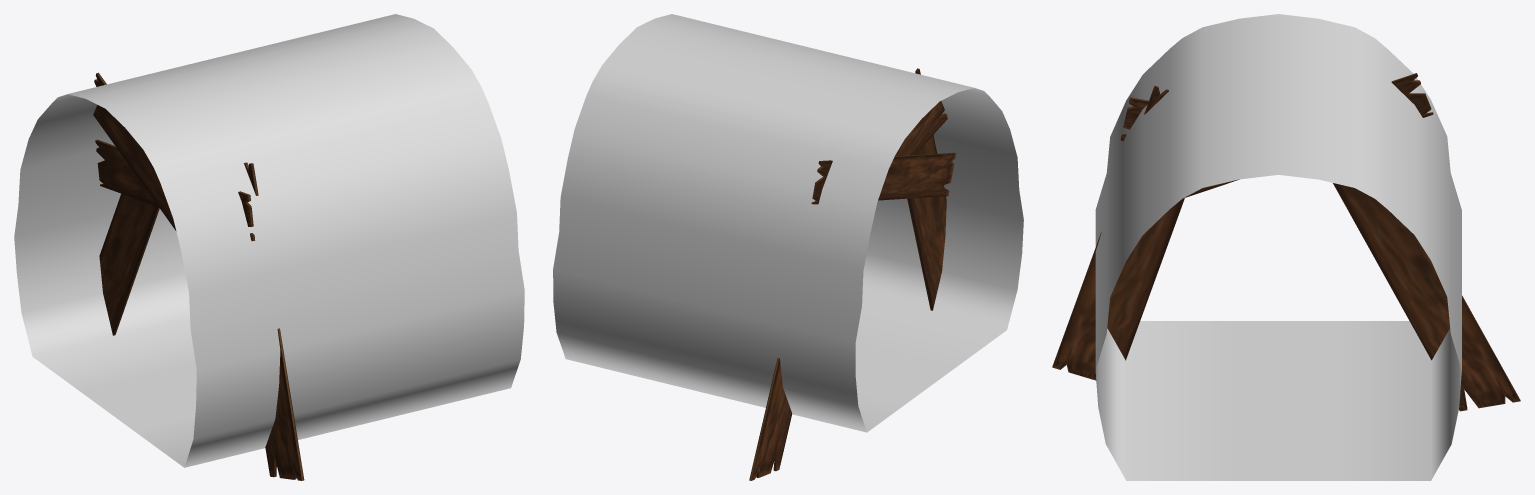
Rendered from Quinta parte.fbx.
3 views of the same model, side by side, from view 1: azimuth 30°, elevation 25°; view 2: azimuth 150°, elevation 25°; view 3: azimuth 270°, elevation 25° (orthographic). The views are drawn at different scales.
Parts seen in each view (by area): view 1: Plane, Plane.010, Plane.009, Plane.008; view 2: Plane, Plane.010, Plane.009, Plane.008; view 3: Plane, Plane.010, Plane.009.
Boxes of the visible parts, box(x1,y1,x2,y2) form: Plane: box(14, 14, 524, 467); Plane.010: box(99, 162, 304, 480); Plane.009: box(93, 72, 176, 230); Plane.008: box(95, 139, 255, 241); Plane: box(553, 14, 1023, 432); Plane.010: box(749, 68, 946, 480); Plane.009: box(811, 152, 955, 204); Plane.008: box(895, 101, 947, 156); Plane: box(1095, 14, 1461, 480); Plane.010: box(1052, 86, 1520, 411); Plane.009: box(1185, 73, 1433, 197).
Bounding box in the file's own units: 1608 × 1643 × 1962.
